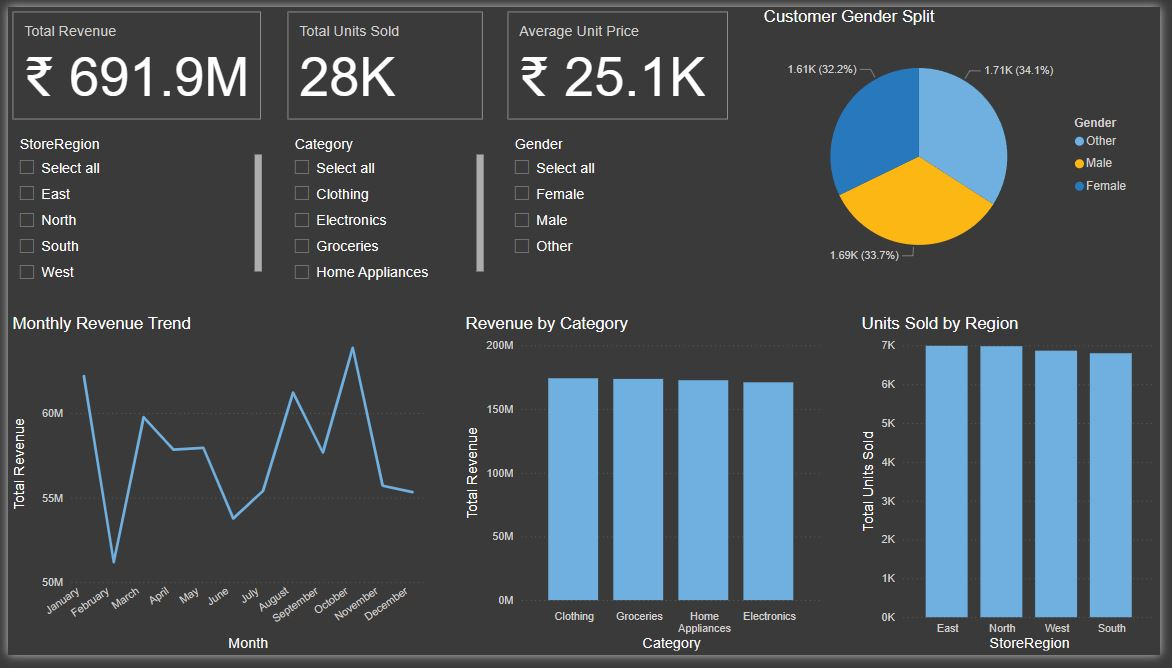

The dashboard page shown, as its layout file describes it:
{"tool":"powerbi","page":{"name":"Executive Summary","canvas":[1280,720],"ordinal":0},"visuals":[{"type":"cardVisual","fields":{"Data":["retail_sales_data.Total Revenue"]},"box":[0,0,286.7,130],"z":0},{"type":"cardVisual","fields":{"Data":["retail_sales_data.Total Units Sold"]},"box":[305.6,0,227.8,130],"z":1000},{"type":"cardVisual","fields":{"Data":["retail_sales_data.Average Unit Price"]},"box":[550,0,255.6,130],"z":2000},{"type":"lineChart","title":"Monthly Revenue Trend","fields":{"Category":["retail_sales_data.Date.Variation.Date Hierarchy.Month"],"Y":["retail_sales_data.Total Revenue"]},"box":[0,341.1,467.8,378.9],"z":3000},{"type":"clusteredColumnChart","title":"Revenue by Category","fields":{"Category":["retail_sales_data.Category"],"Y":["retail_sales_data.Total Revenue"]},"box":[503.3,341.1,405.6,378.9],"z":4000},{"type":"clusteredColumnChart","title":"Units Sold by Region","fields":{"Category":["retail_sales_data.StoreRegion"],"Y":["retail_sales_data.Total Units Sold"]},"box":[943.3,341.1,336.7,378.9],"z":5000},{"type":"pieChart","title":"Customer Gender Split","fields":{"Category":["retail_sales_data.Gender"],"Series":["retail_sales_data.Gender"],"Y":["CountNonNull(retail_sales_data.Gender)"]},"box":[834.4,0,422.2,311.1],"z":5001},{"type":"slicer","fields":{"Values":["retail_sales_data.StoreRegion"]},"box":[0,138.9,286.7,172.2],"z":5002},{"type":"slicer","fields":{"Values":["retail_sales_data.Category"]},"box":[305.6,138.9,227.8,172.2],"z":5003},{"type":"slicer","fields":{"Values":["retail_sales_data.Gender"]},"box":[550,138.9,255.6,172.2],"z":5004}]}

Visuals, with their boxes in screenshot pixels (x1, y1, x2, y2), scaled from the page's 1280x720 canvas onto the 1172x668 screenshot:
cardVisual - retail_sales_data.Total Revenue: BBox(0, 0, 263, 121)
cardVisual - retail_sales_data.Total Units Sold: BBox(280, 0, 488, 121)
cardVisual - retail_sales_data.Average Unit Price: BBox(504, 0, 738, 121)
"Monthly Revenue Trend" lineChart: BBox(0, 316, 428, 667)
"Revenue by Category" clusteredColumnChart: BBox(461, 316, 832, 667)
"Units Sold by Region" clusteredColumnChart: BBox(864, 316, 1171, 667)
"Customer Gender Split" pieChart: BBox(764, 0, 1151, 289)
slicer - retail_sales_data.StoreRegion: BBox(0, 129, 263, 289)
slicer - retail_sales_data.Category: BBox(280, 129, 488, 289)
slicer - retail_sales_data.Gender: BBox(504, 129, 738, 289)
